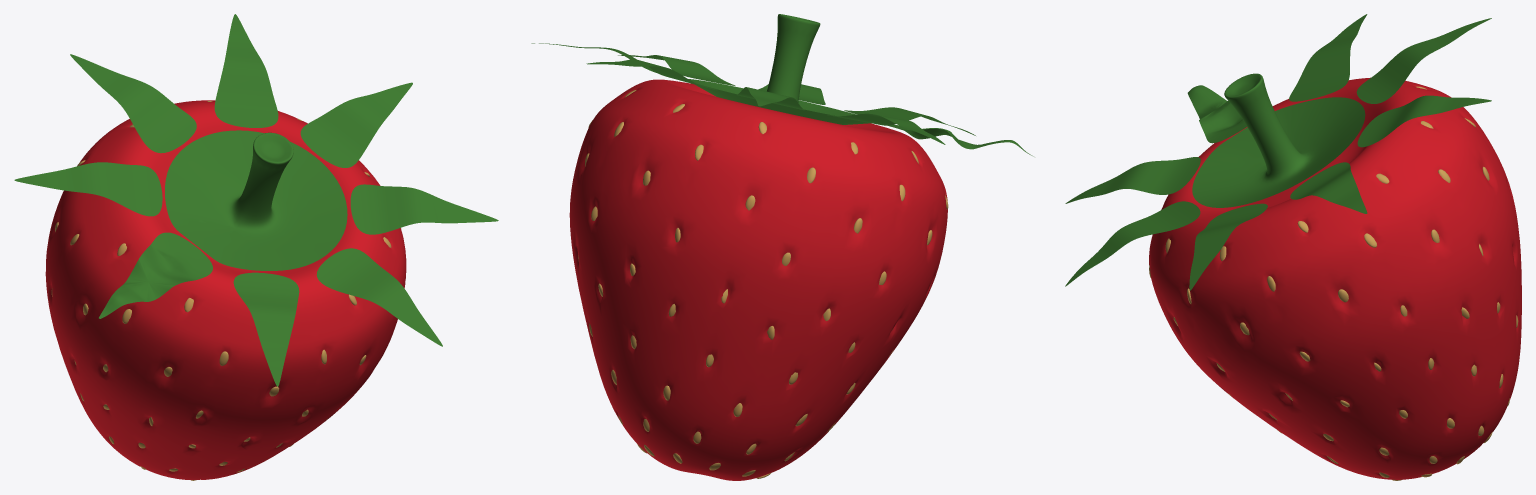
The model's file is strawberry-light.glb.
The picture shows the model from 3 angles, left to right: view 1: azimuth 30°, elevation 25°; view 2: azimuth 150°, elevation 25°; view 3: azimuth 270°, elevation 25°; orthographic projection. The views are drawn at different scales.
Visible parts, largest first — view 1: Sphere, Sphere.001; view 2: Sphere, Sphere.001; view 3: Sphere, Sphere.001.
Part boxes in pixels (<box>): Sphere: <box>14,14,498,479</box>; Sphere.001: <box>51,101,401,480</box>; Sphere: <box>531,14,1033,480</box>; Sphere.001: <box>578,90,948,478</box>; Sphere: <box>1065,14,1521,479</box>; Sphere.001: <box>1149,86,1518,480</box>.
Size of the model in its own units: 2.39 by 2.29 by 2.3.
